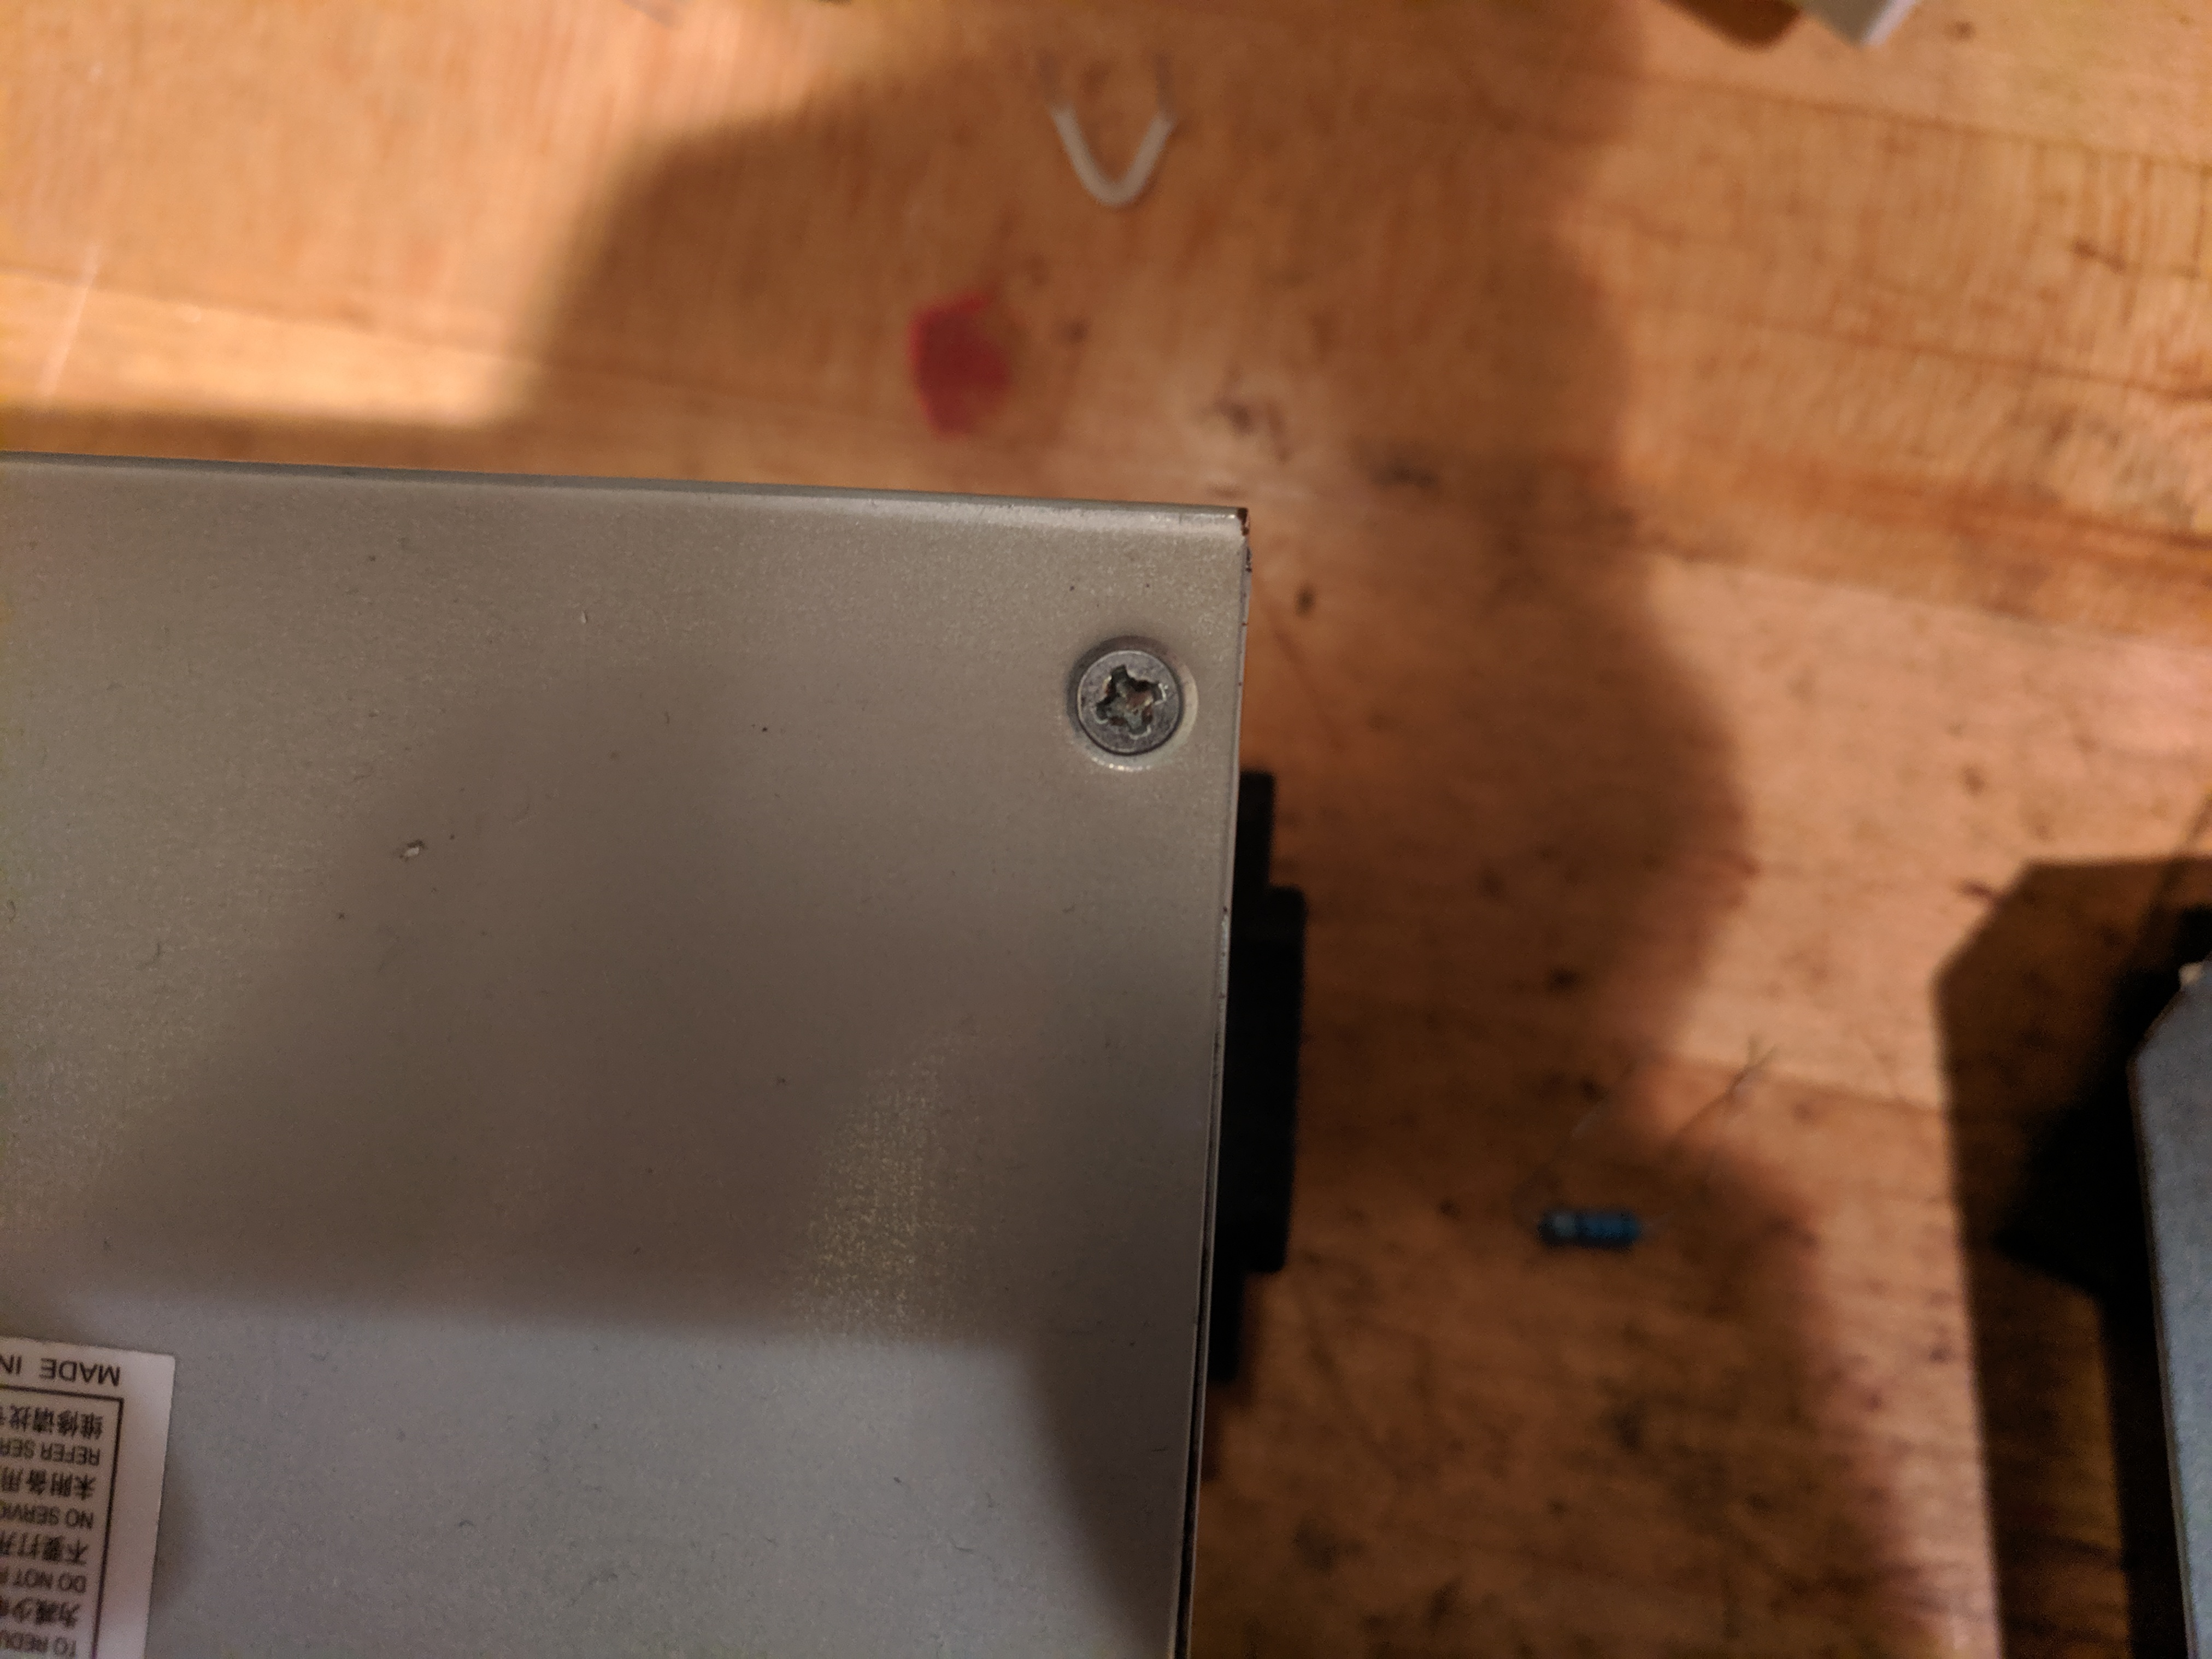cross_recessed_screw: (1390, 751, 1456, 824), (1313, 1051, 1381, 1121)
